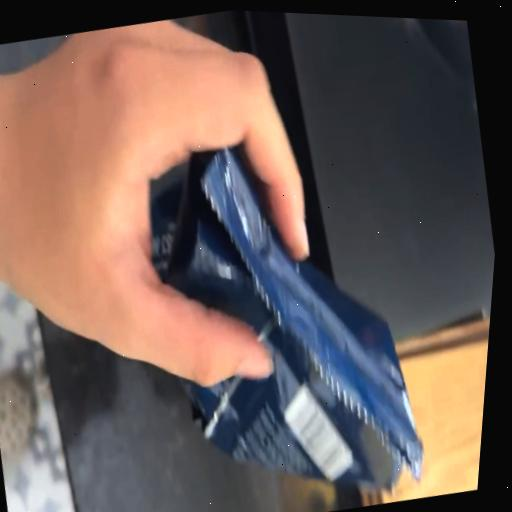cafe_hat: (150, 149, 421, 490)
